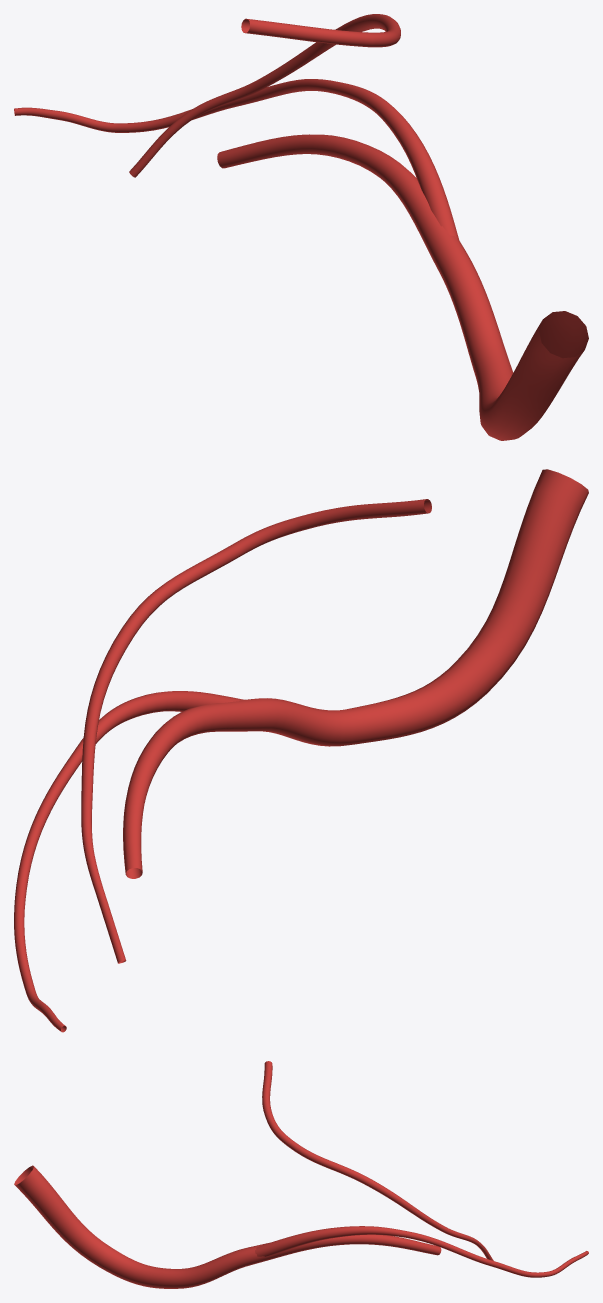
3 renders of one model, top to bottom at view 1: azimuth 30°, elevation 25°; view 2: azimuth 150°, elevation 25°; view 3: azimuth 270°, elevation 25°, orthographic. The views are drawn at different scales.
Visible parts, largest first — view 1: 右侧膝上内侧动脉; view 2: 右侧膝上内侧动脉; view 3: 右侧膝上内侧动脉.
Part boxes in pixels (x1,y1,x2,y2): 右侧膝上内侧动脉: (14, 14, 588, 440); 右侧膝上内侧动脉: (14, 469, 588, 1032); 右侧膝上内侧动脉: (14, 1061, 588, 1288).
Size of the model in its own units: 0.0536 by 0.077 by 0.2127.
